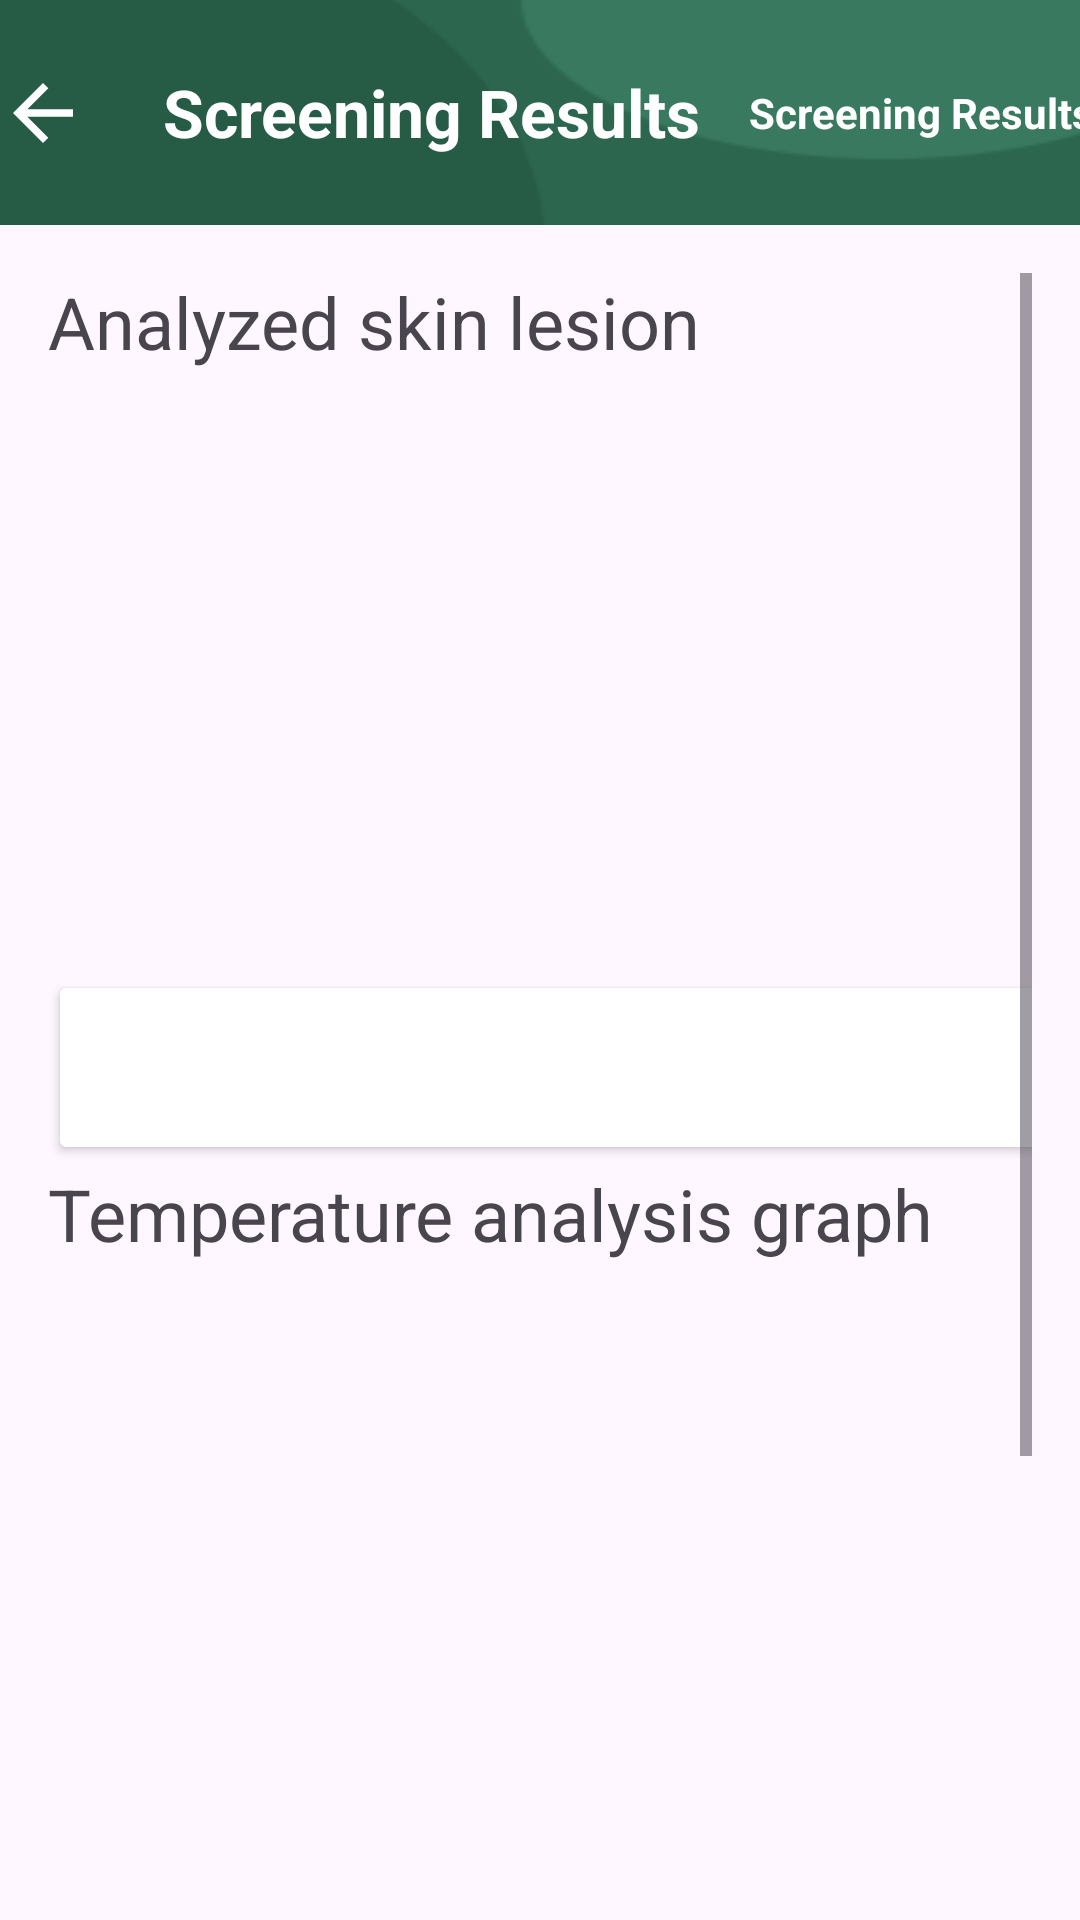

Screen size 1080x1920. Icon name, then its box in pixels as bbox=(x1, y1, x2, y2):
Back: bbox=(13, 83, 73, 143)
